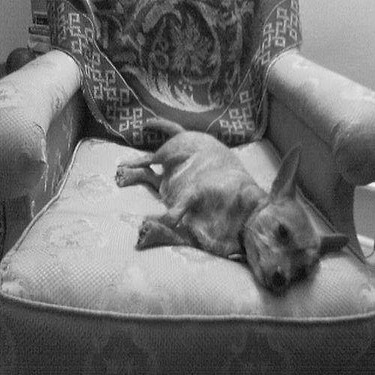dog: (113, 112, 354, 300)
